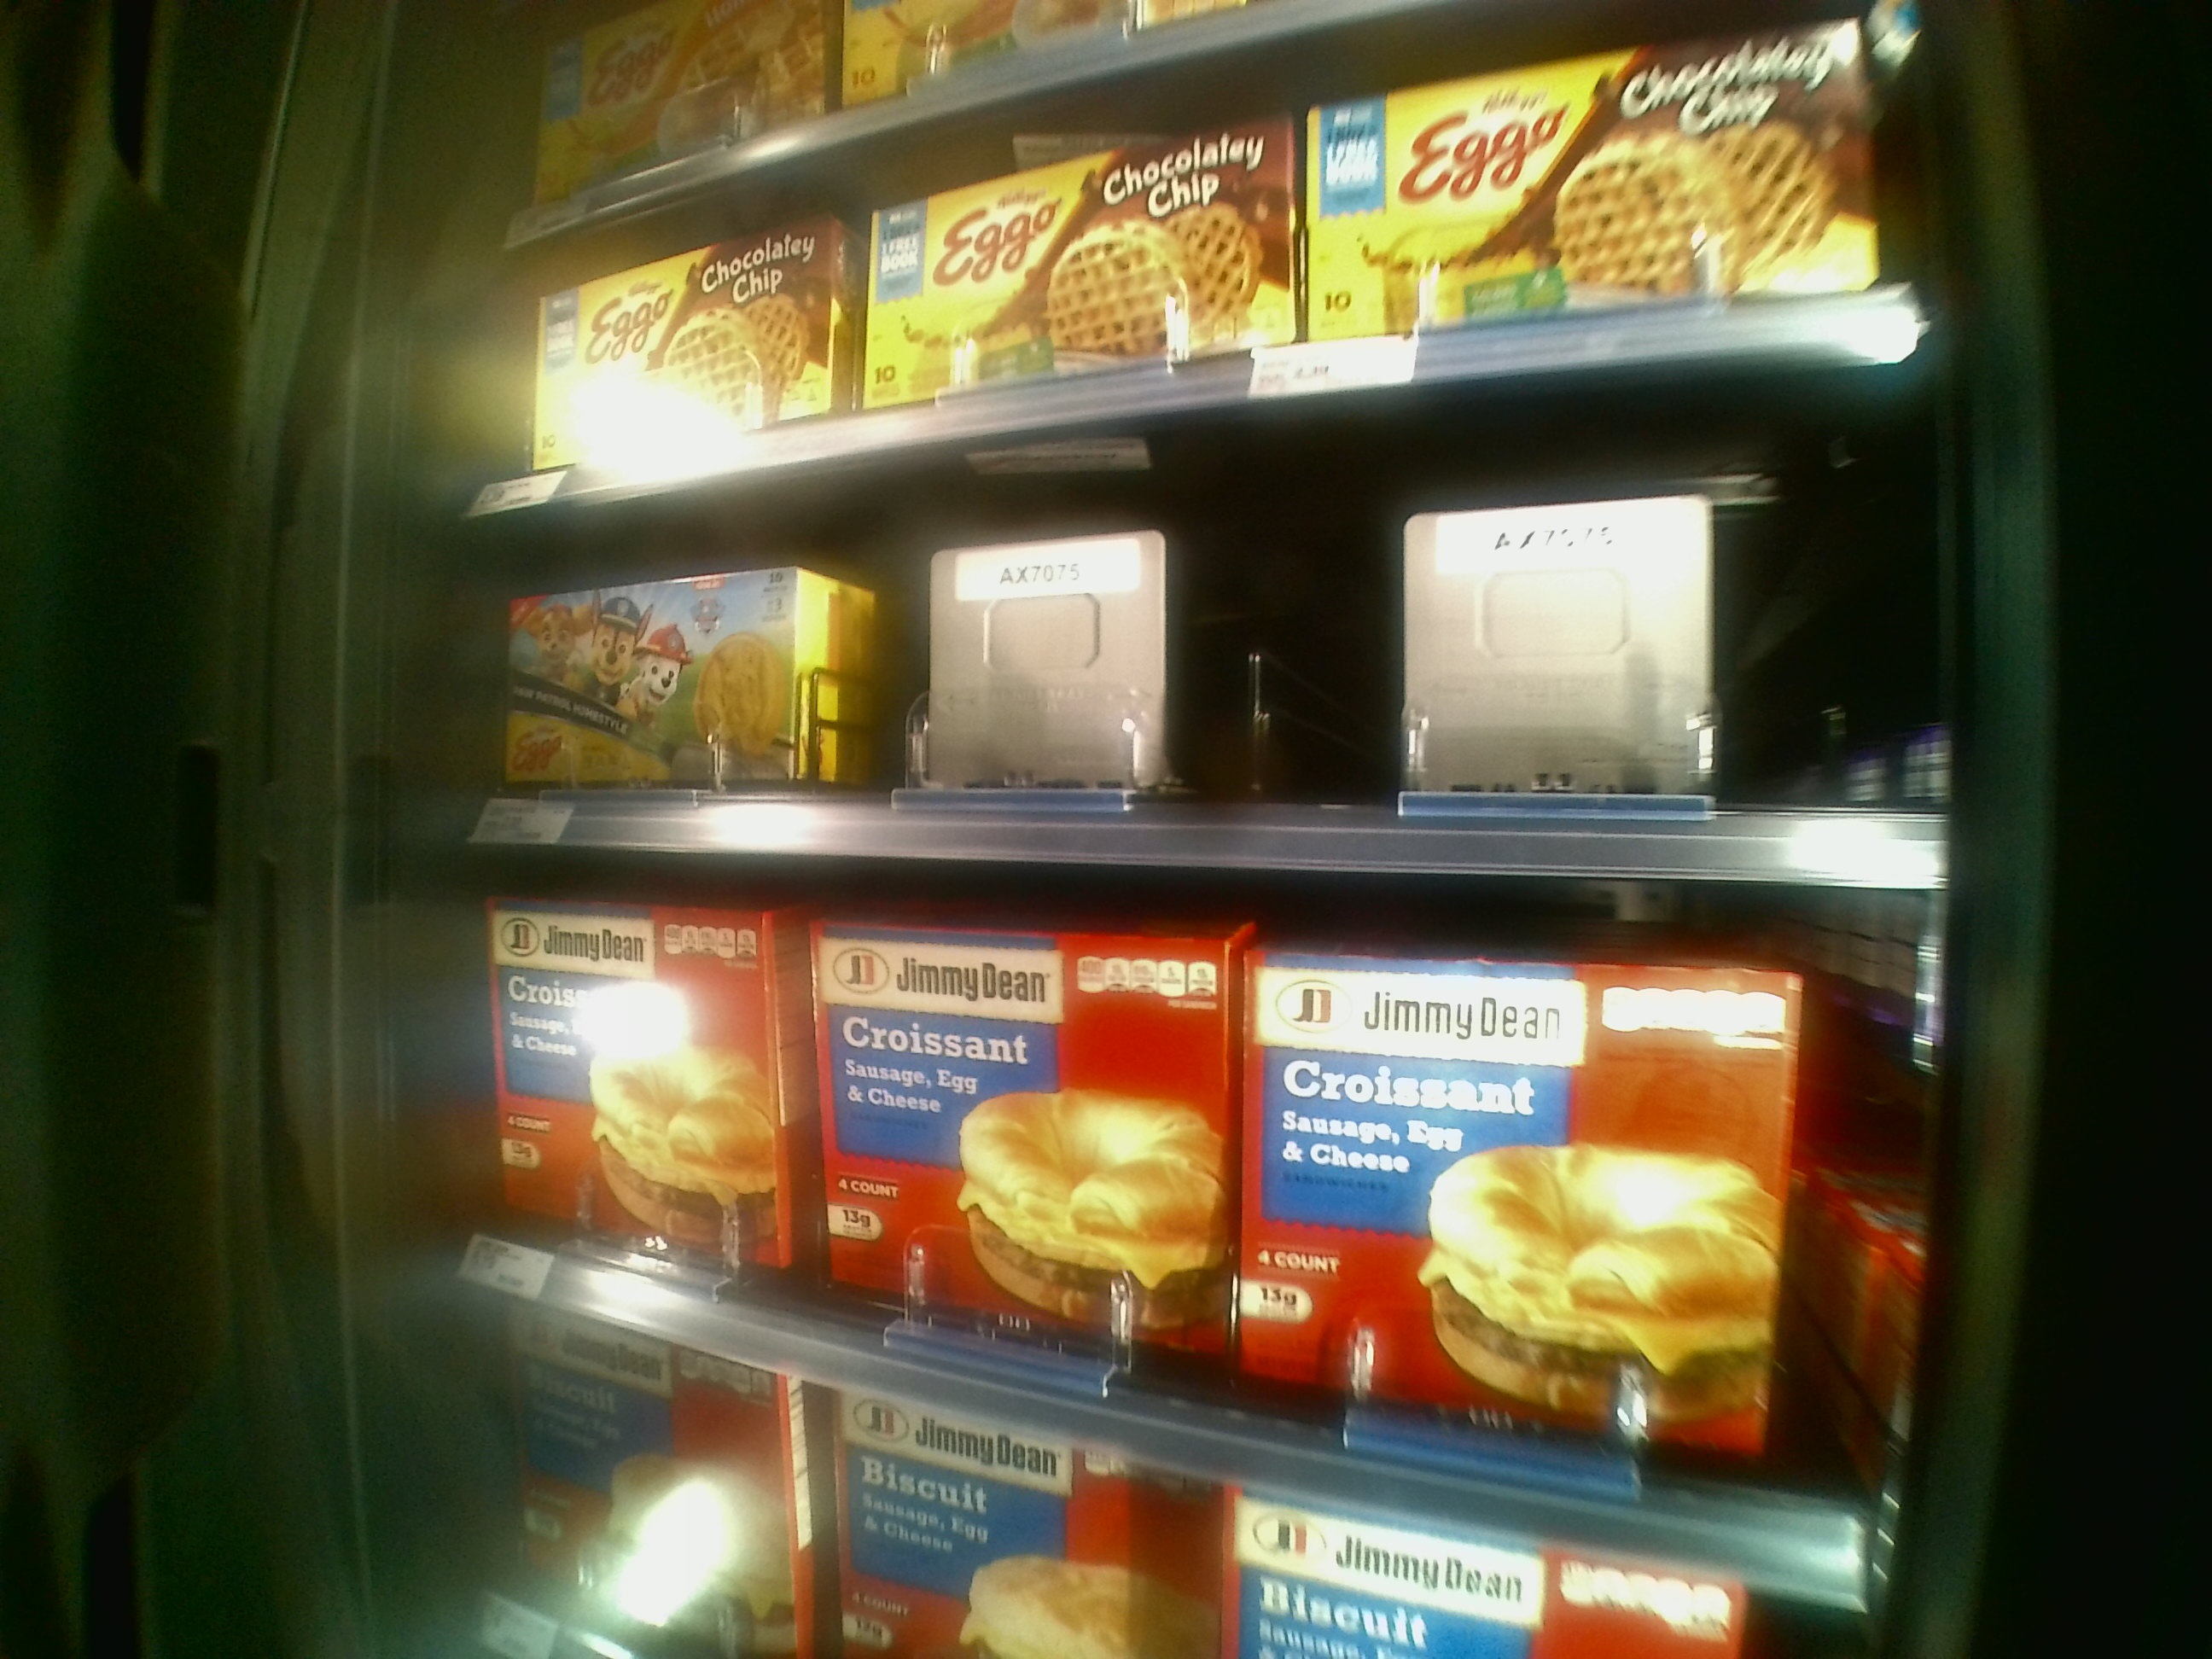shelf: (467, 355, 1937, 882)
